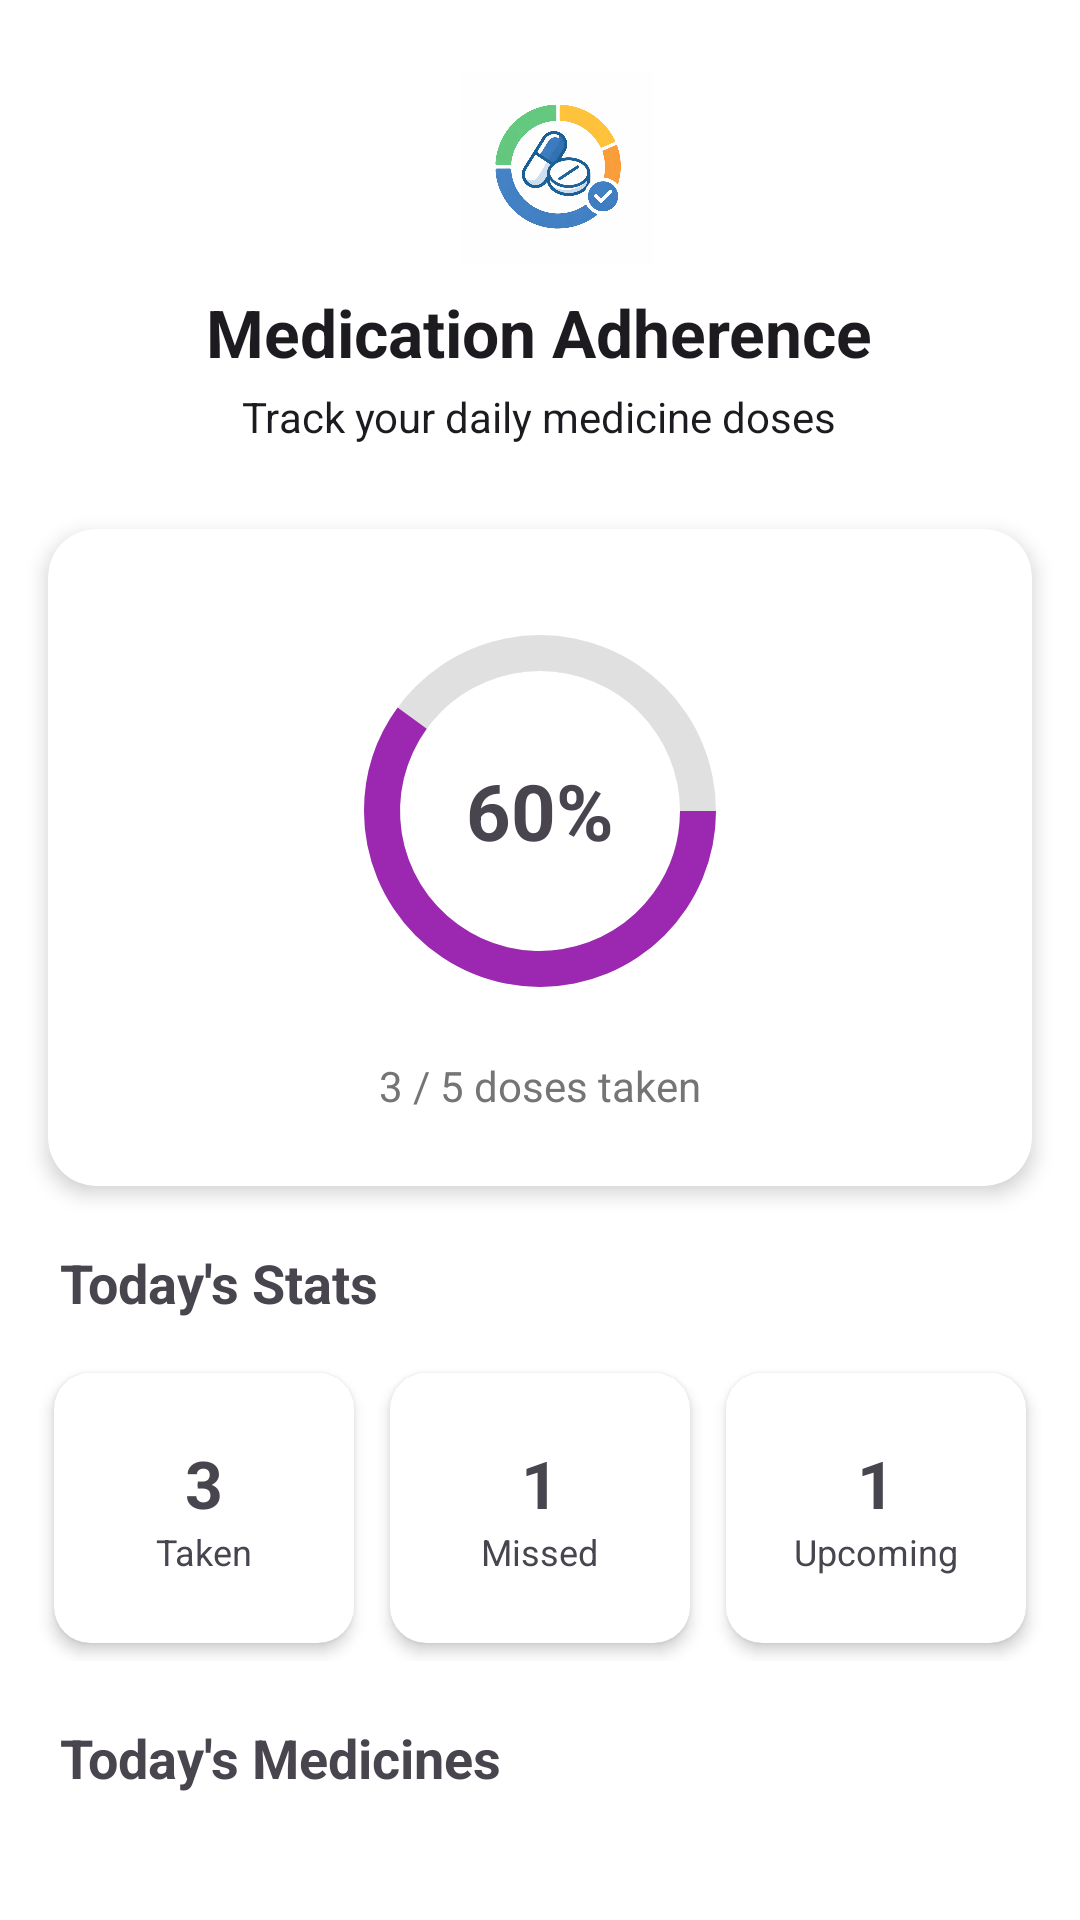

Screen size 1080px×1920px. Icon name, then its center in pixels as (x,y):
medical adherence: (558,167)
